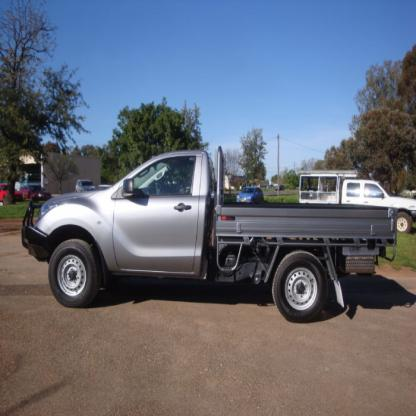light_vehicle: (20, 143, 400, 329)
